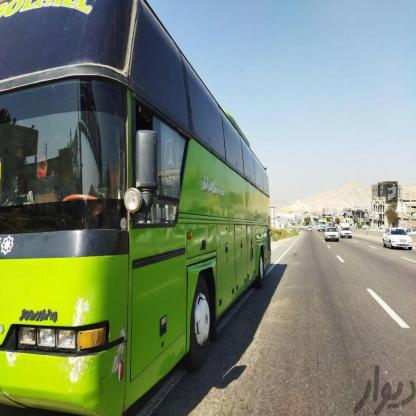Bus: (0, 0, 275, 416)
Car: (380, 224, 416, 256), (320, 226, 342, 249), (334, 224, 352, 240)
